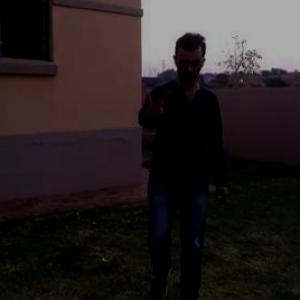takeoff-hand: (140, 81, 173, 123)
